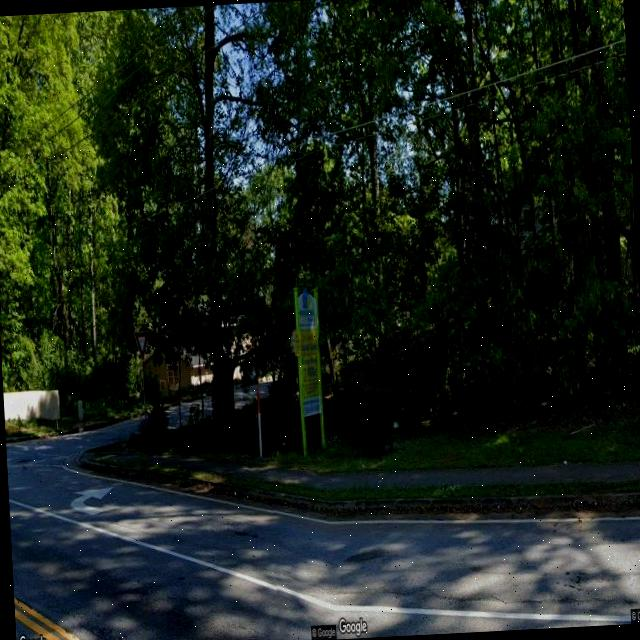trash_can: (358, 395, 386, 459)
